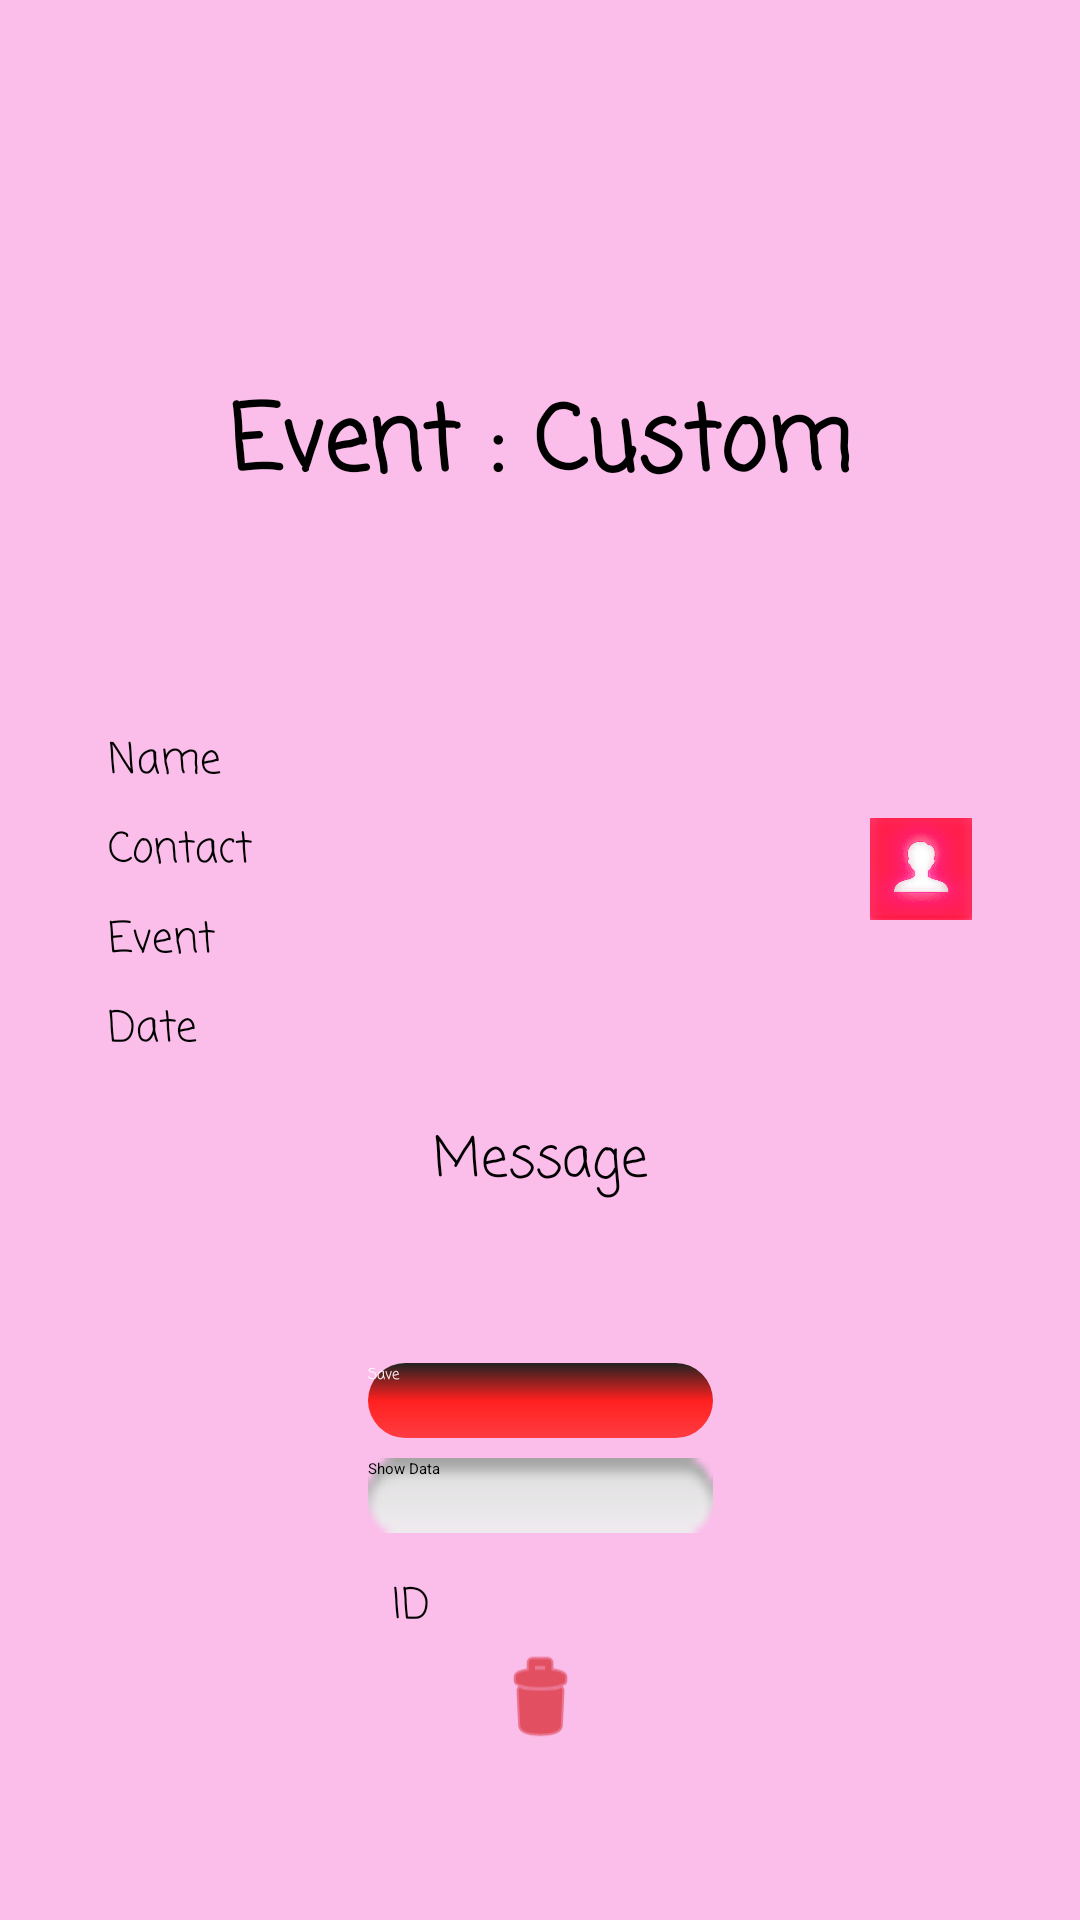

Icon click points for this 1080 × 1920 phone screenshot, format point (x, y):
delete: point (540, 1696)
phonebook: point (921, 869)
